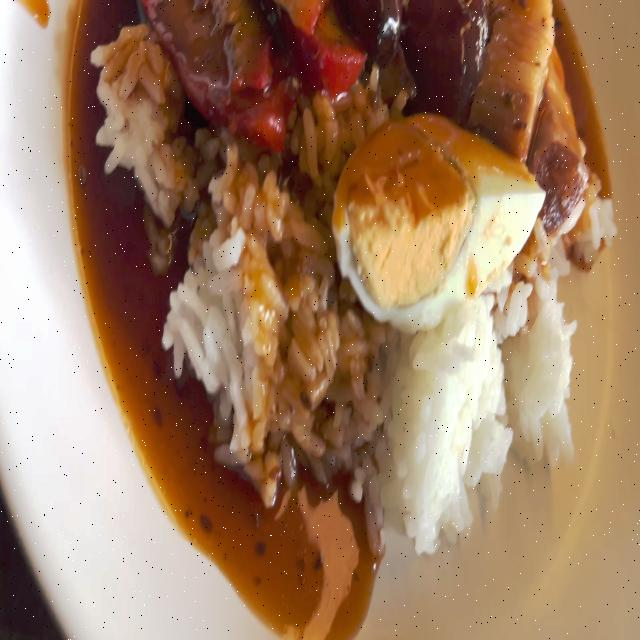boiled_egg: (342, 114, 542, 332)
chainese_sausage: (402, 0, 486, 123)
crispy_pork: (471, 0, 554, 156)
red_pork: (139, 0, 281, 144), (286, 3, 364, 100)
red_pork_and_crispy_pork: (72, 0, 615, 559)
rice: (373, 282, 515, 554), (162, 221, 268, 449), (502, 284, 576, 469), (299, 80, 388, 195), (95, 91, 175, 204), (94, 25, 168, 113), (166, 300, 216, 392), (280, 200, 330, 256), (94, 75, 129, 127), (209, 224, 245, 272), (208, 260, 246, 299), (207, 161, 234, 215), (365, 458, 383, 534), (354, 389, 384, 434), (102, 132, 130, 173), (96, 115, 122, 148), (413, 344, 443, 372), (350, 462, 367, 502), (390, 88, 409, 119), (172, 332, 186, 372), (89, 44, 109, 68), (162, 322, 176, 350)
